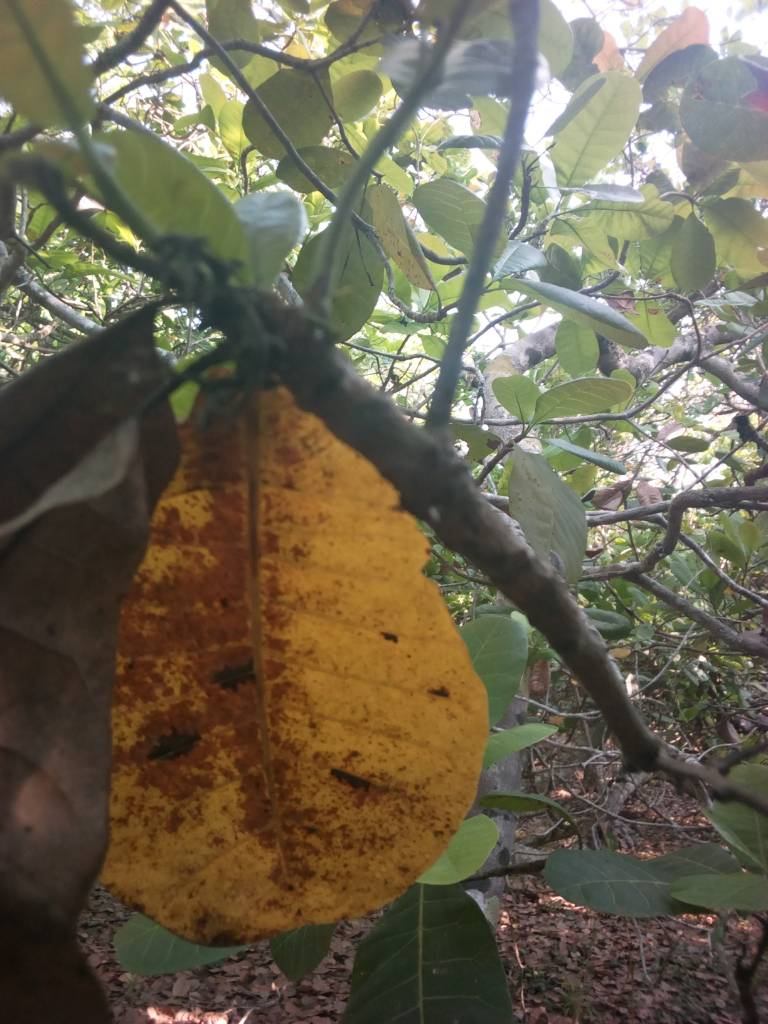Bactériose: (119, 419, 463, 950)
